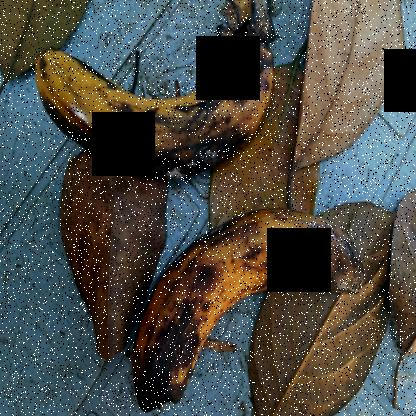overripe: (127, 203, 392, 415), (28, 22, 284, 174)
